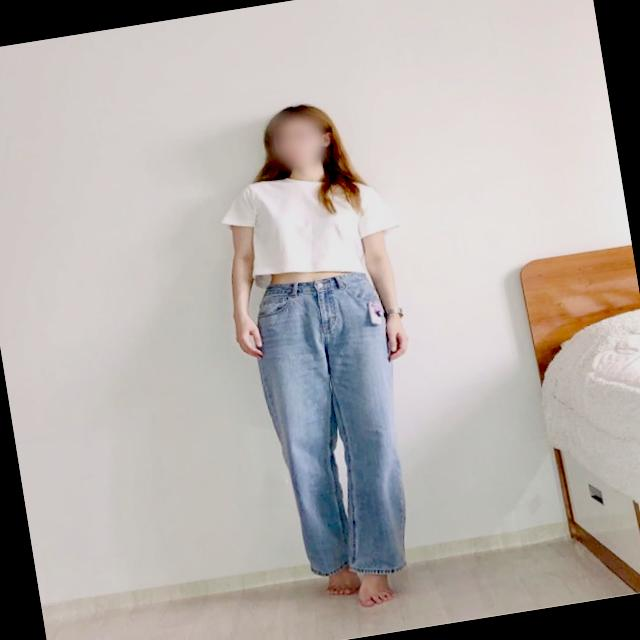denimpants: (248, 268, 428, 590)
shortsleeve: (214, 157, 406, 297)
